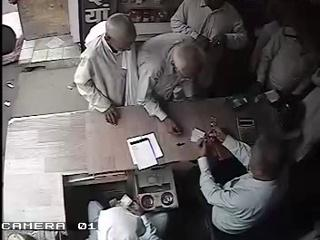Normal: (196, 123, 288, 240), (136, 32, 212, 134), (197, 0, 250, 98), (170, 0, 212, 39)
shoplifting: (74, 13, 138, 126)
